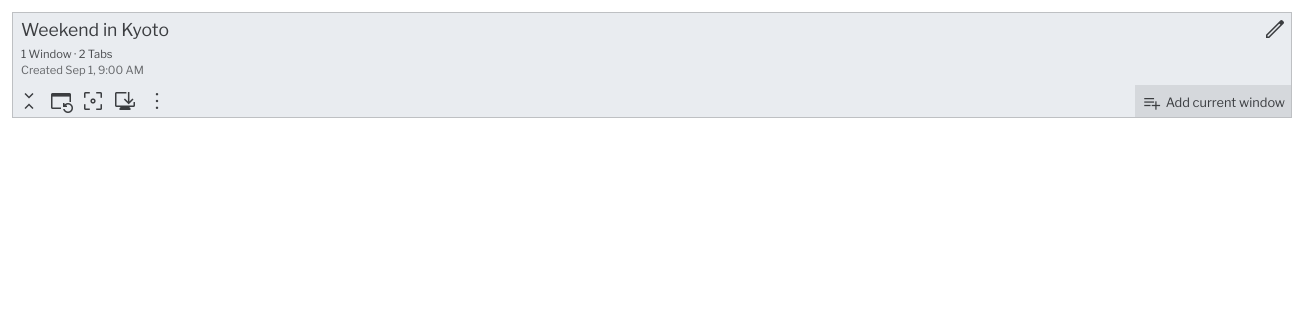
Test: Remove duplicate tabs in the session menu (KAN-609) › says "tab" for one
The image size is (1304, 323).
Click the button named "More actions": (157, 101) [145,87,169,115]
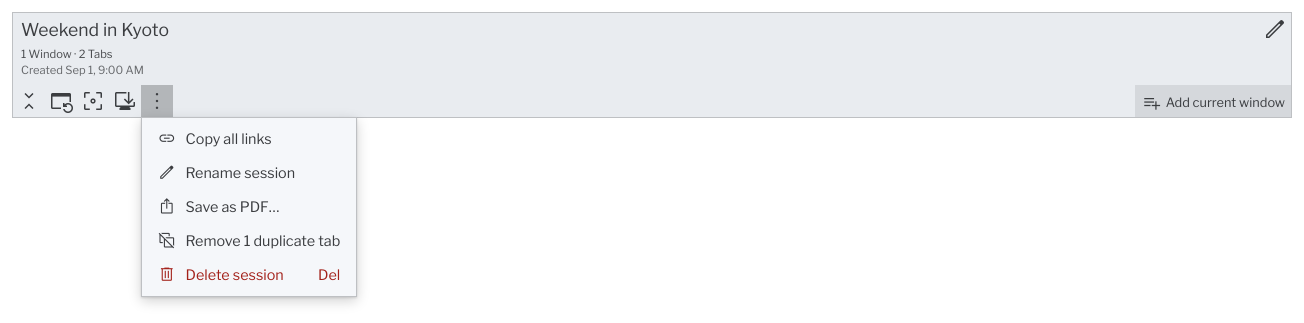
Result: the menu item "Remove 1 duplicate tab" is shown at [146,224,352,258]
